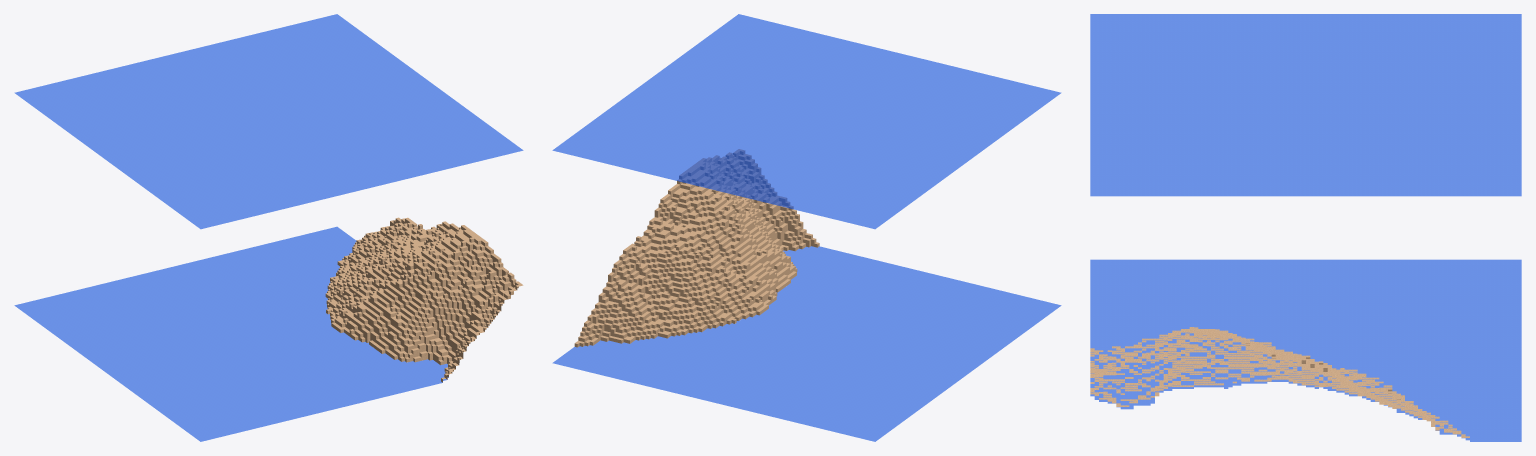
Rendered from chunk-2900-0-lvl-1-transformed.glb.
3 renders of one model, left to right at view 1: azimuth 30°, elevation 25°; view 2: azimuth 150°, elevation 25°; view 3: azimuth 270°, elevation 25°, orthographic. The views are drawn at different scales.
Visible parts, largest first — view 1: Stationary_Water, Sand; view 2: Stationary_Water, Sand; view 3: Stationary_Water, Sand.
Boxes of the visible parts, x1,y1,x2,y2 form: Stationary_Water: [14, 14, 523, 441]; Sand: [325, 217, 523, 382]; Stationary_Water: [552, 14, 1061, 441]; Sand: [574, 149, 819, 347]; Stationary_Water: [1090, 14, 1521, 441]; Sand: [1090, 327, 1469, 437].
Bounding box in the file's own units: 100 × 62.89 × 100.
12 materials, 12 textured.
